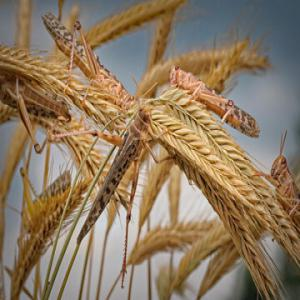locust: (80, 97, 162, 235), (41, 6, 129, 98), (170, 56, 262, 136)
